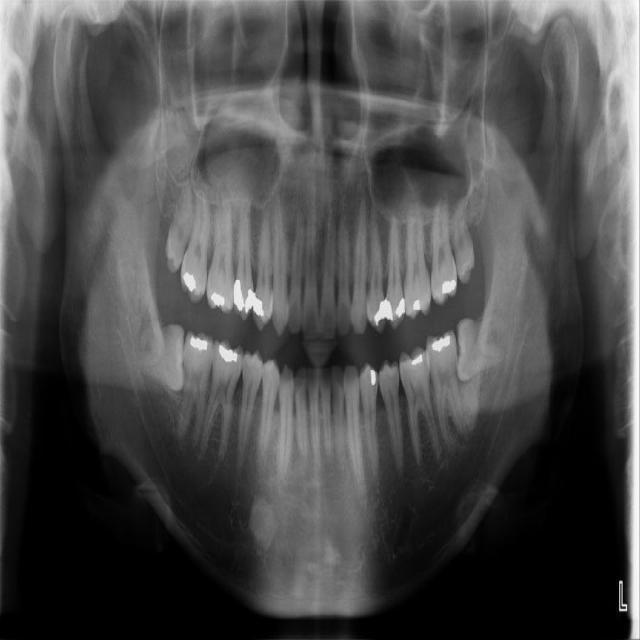Filling: (233, 279, 256, 316), (385, 297, 405, 323), (371, 300, 389, 328), (429, 334, 452, 354), (216, 345, 239, 364), (439, 279, 459, 298), (253, 296, 268, 321), (182, 272, 198, 295), (188, 336, 211, 352), (409, 353, 426, 373), (209, 291, 230, 307), (407, 299, 425, 315), (368, 366, 380, 387)
impacted tooth: (131, 325, 185, 392), (455, 313, 506, 381)
